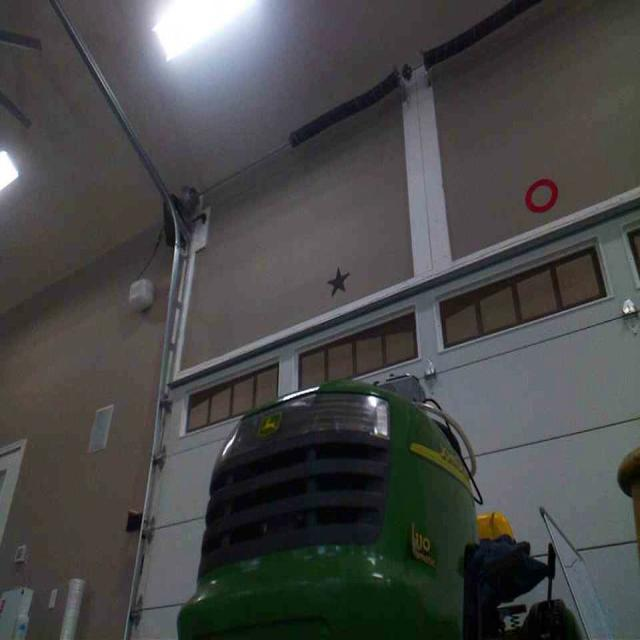ring_red: (523, 176, 559, 212)
star_black: (327, 264, 349, 298)
